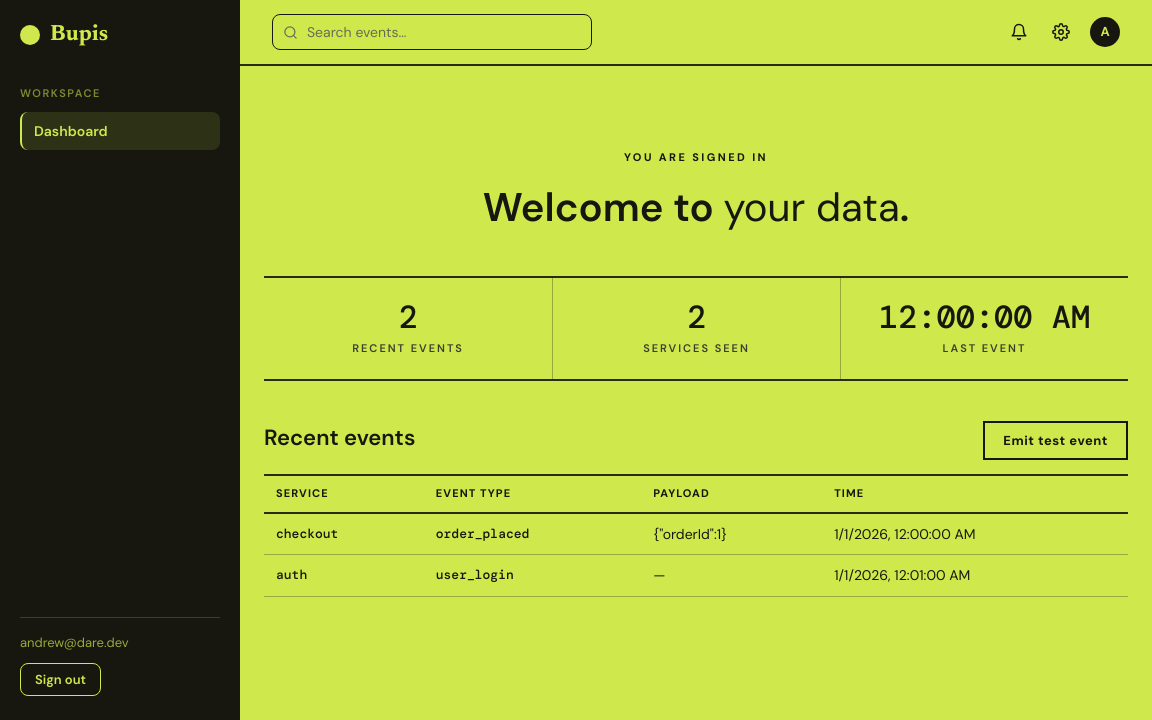
it: Dashboard › shows a "no match" empty state distinct from the zero-events state
The image size is (1152, 720).
Expected: the text "checkout" is shown, [264,513,424,555]
Type "zzz_nothing" into the search field with placeholder "Search events…" at (432, 32), box [272,14,592,50]
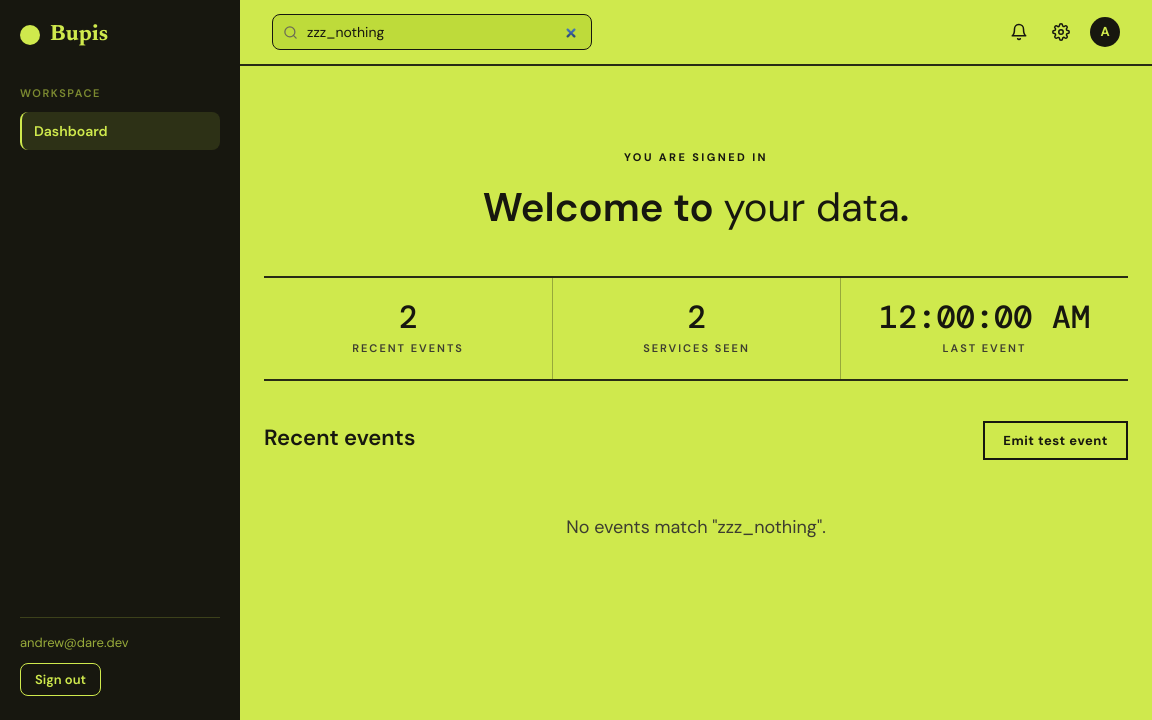
Now the text "No events match \"zzz_nothing\"." is shown, box [566,515,826,539]
